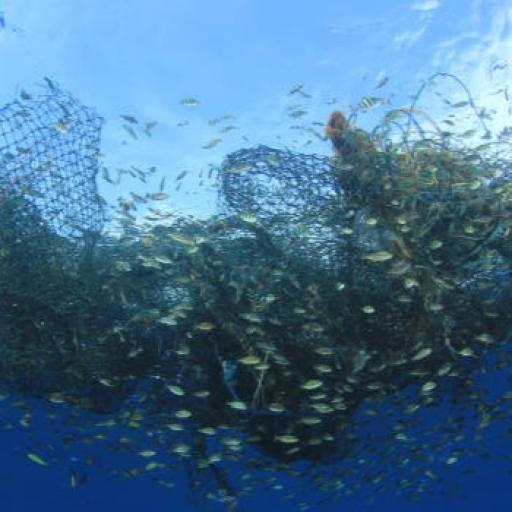net: (1, 71, 512, 466)
